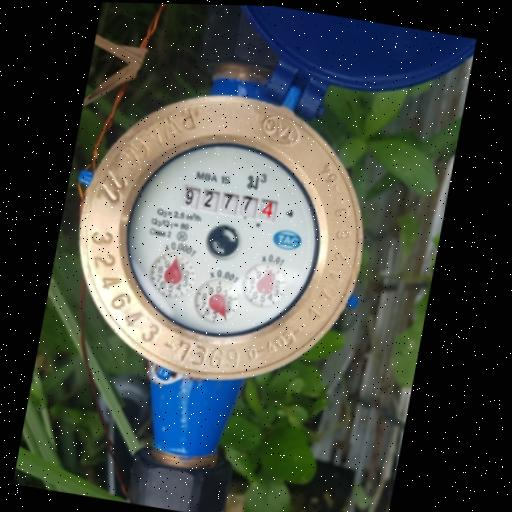2: (201, 190, 219, 211)
4: (259, 200, 276, 223)
7: (221, 191, 239, 216), (241, 197, 258, 218)
9: (183, 185, 200, 209)
border_water_meter_number: (176, 180, 284, 228)
